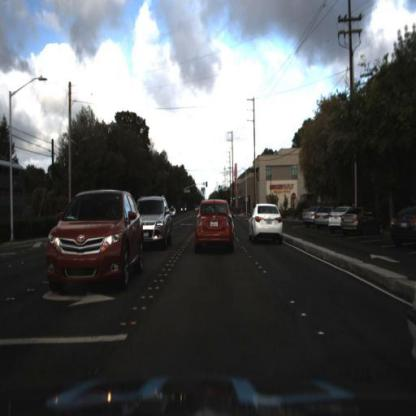car: (42, 184, 151, 302), (187, 191, 243, 259), (248, 196, 288, 243), (143, 192, 173, 254), (390, 204, 416, 251), (340, 204, 373, 234), (327, 206, 341, 236), (303, 203, 316, 230), (315, 205, 329, 230)
